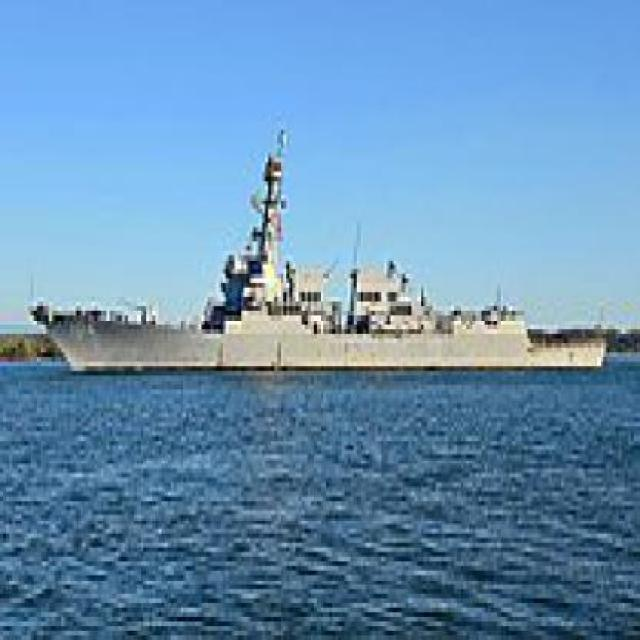warship2: (31, 51, 611, 394)
